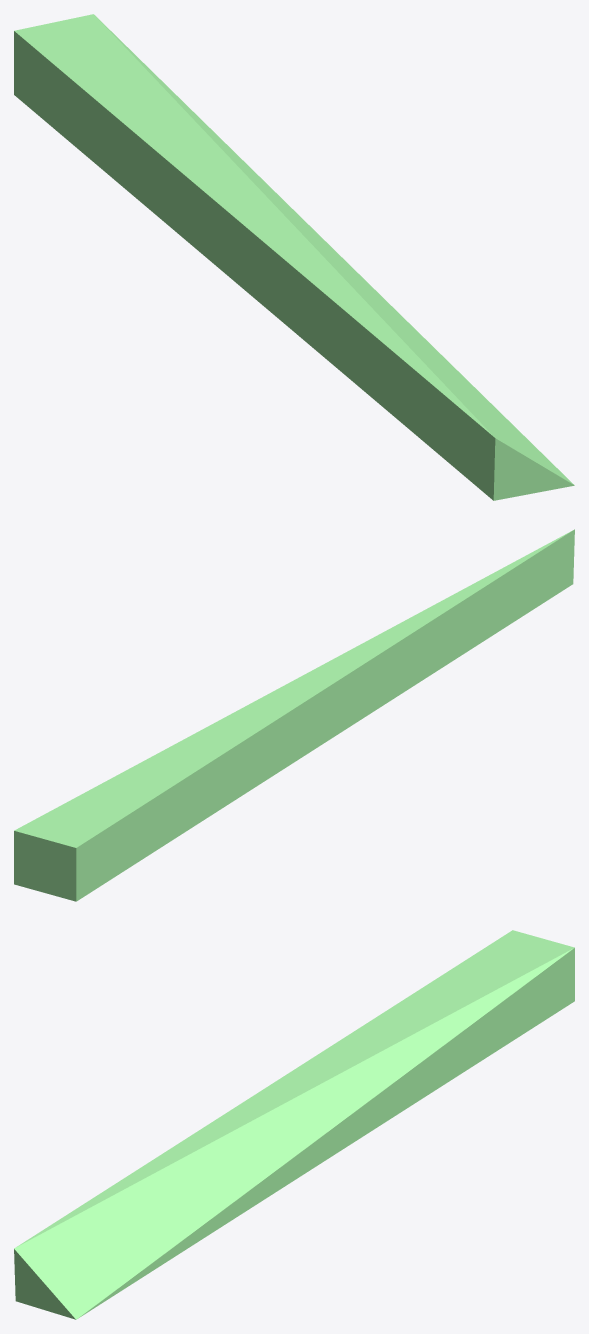
The model's file is dvkr_robot_L2_respondable_PSM2_coll_6.dae.
3 renders of one model, top to bottom at view 1: azimuth 30°, elevation 25°; view 2: azimuth 150°, elevation 25°; view 3: azimuth 330°, elevation 25°, orthographic. The views are drawn at different scales.
Visible parts, largest first — view 1: Node_0000023514CDA040; view 2: Node_0000023514CDA040; view 3: Node_0000023514CDA040.
Part boxes in pixels (bbox=[...]): Node_0000023514CDA040: bbox=[14, 14, 574, 500]; Node_0000023514CDA040: bbox=[14, 529, 574, 901]; Node_0000023514CDA040: bbox=[14, 930, 574, 1319].
Size of the model in its own units: 0.052 by 0.0239 by 0.3643.
